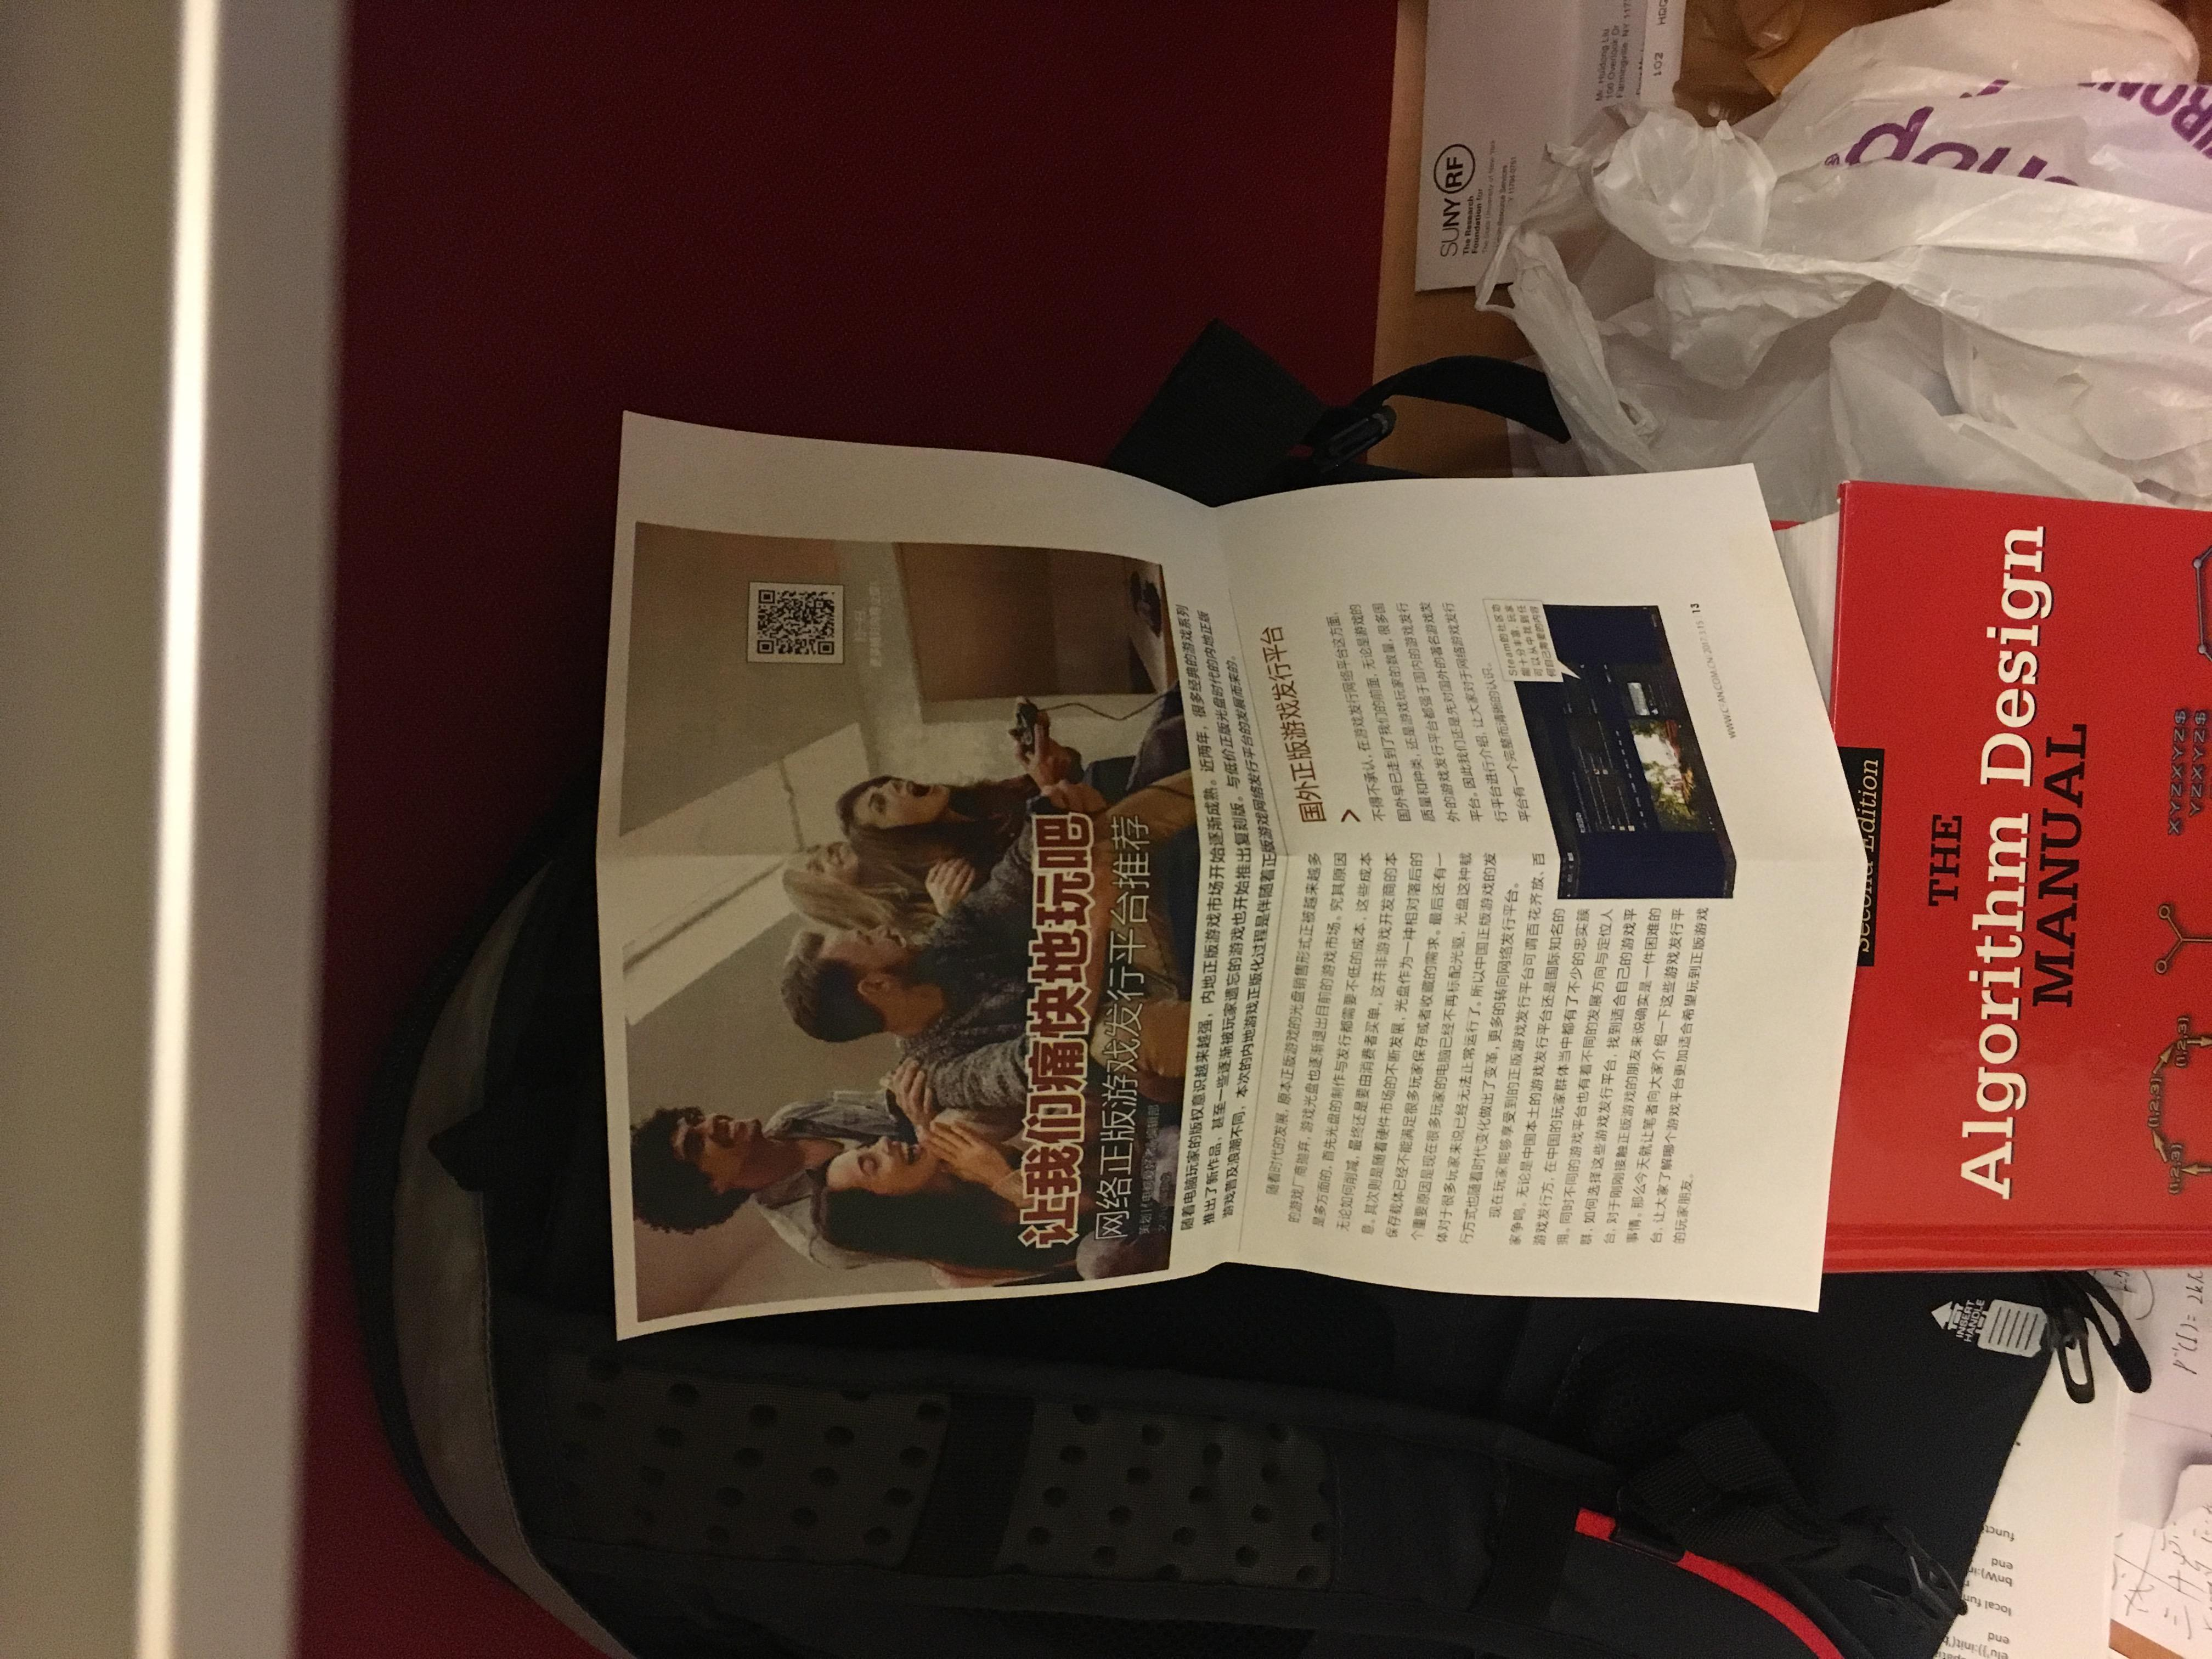paper: (246, 364, 1841, 1387)
